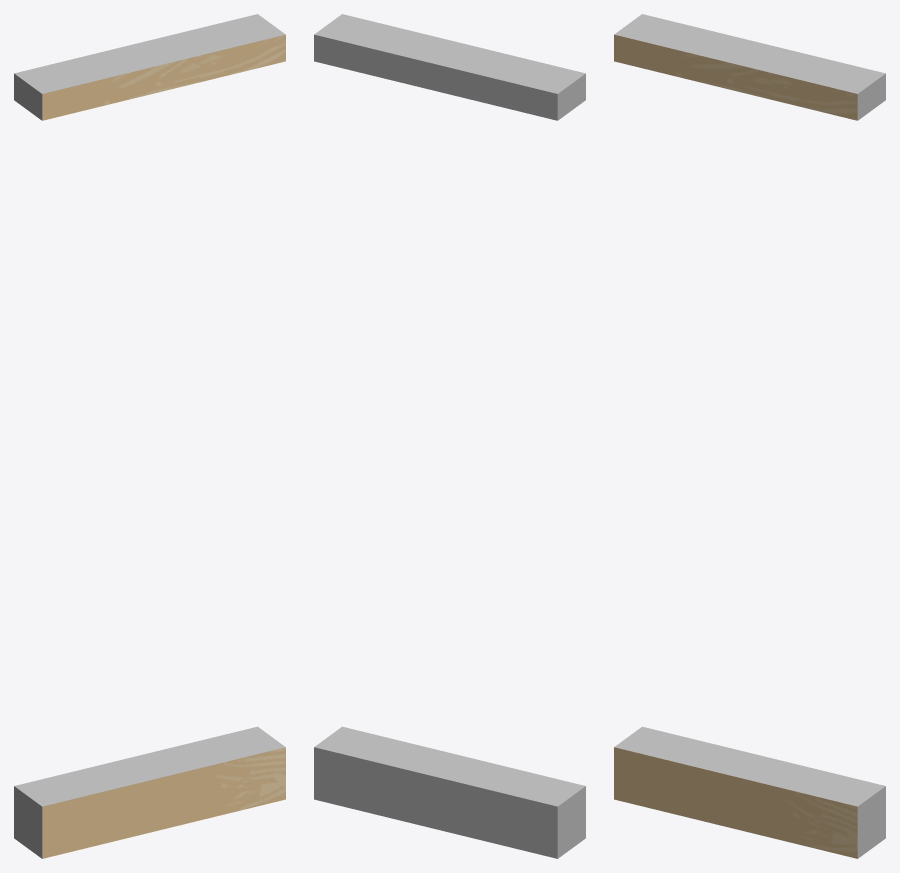
Rendered from Wall Standard 1x3 Window 5 - B.fbx.
The picture shows the model from 3 angles, left to right: view 1: azimuth 30°, elevation 25°; view 2: azimuth 150°, elevation 25°; view 3: azimuth 330°, elevation 25°; orthographic projection.
Parts seen in each view (by area): view 1: Wall Standard 1x3 (Window 5 - B); view 2: Wall Standard 1x3 (Window 5 - B); view 3: Wall Standard 1x3 (Window 5 - B).
Boxes of the visible parts, bbox=[...] form: Wall Standard 1x3 (Window 5 - B): bbox=[14, 14, 285, 858]; Wall Standard 1x3 (Window 5 - B): bbox=[314, 14, 585, 858]; Wall Standard 1x3 (Window 5 - B): bbox=[614, 14, 885, 858].
Bounding box in the file's own units: 100 × 300 × 20.
